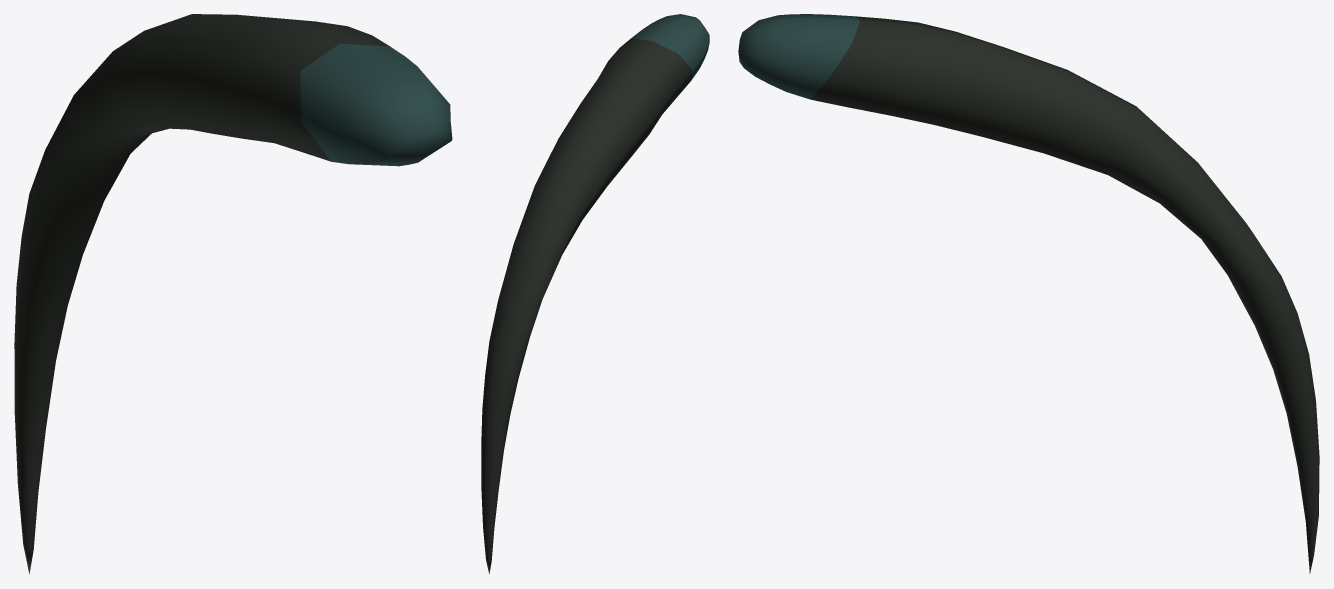
Rendered from plants-leafy-plants-horn-sprout_v3.glb.
3 views of the same model, side by side, from view 1: azimuth 30°, elevation 25°; view 2: azimuth 150°, elevation 25°; view 3: azimuth 270°, elevation 25° (orthographic). The views are drawn at different scales.
Visible parts, largest first — view 1: Horn Sprout_v3; view 2: Horn Sprout_v3; view 3: Horn Sprout_v3.
Part boxes in pixels (x1,y1,x2,y2): Horn Sprout_v3: [14, 14, 452, 574]; Horn Sprout_v3: [481, 14, 709, 573]; Horn Sprout_v3: [738, 14, 1319, 573].
Size of the model in its own units: 0.0352 by 0.2 by 0.1888.
